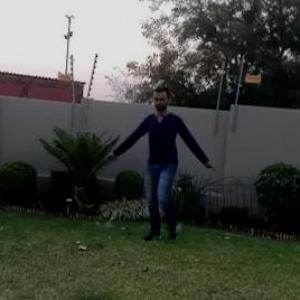land: (110, 93, 218, 236)
